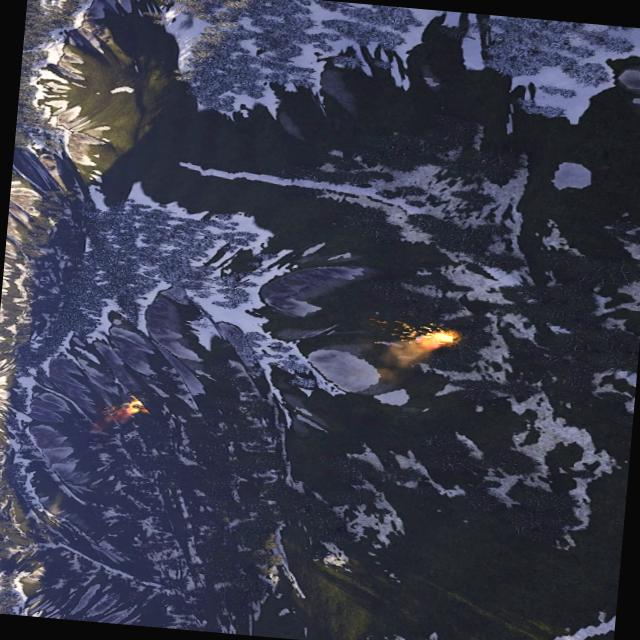fire: (414, 324, 460, 350), (125, 396, 148, 414)
smoke: (378, 336, 431, 382), (90, 402, 132, 432)
